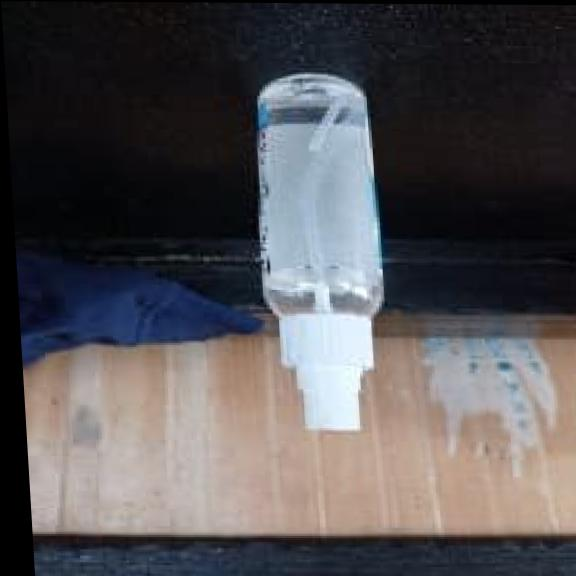Plastik: (240, 61, 399, 441)
